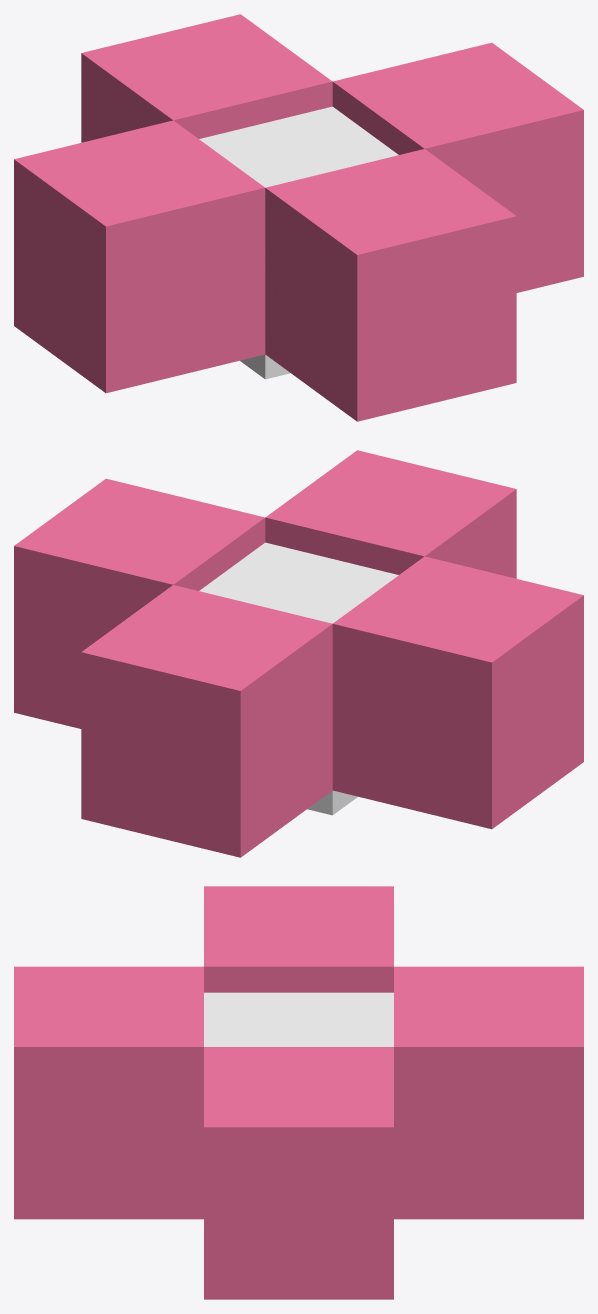
The model's file is sakura.gltf.
3 views of the same model, one above another, from view 1: azimuth 30°, elevation 25°; view 2: azimuth 150°, elevation 25°; view 3: azimuth 270°, elevation 25° (orthographic). The views are drawn at different scales.
Visible parts, largest first — view 1: flower-Local, in-Local; view 2: flower-Local, in-Local; view 3: flower-Local, in-Local.
Part boxes in pixels (box(x1,y1,x2,y2)): flower-Local: box(14, 14, 583, 421); in-Local: box(199, 106, 398, 379); flower-Local: box(14, 450, 583, 857); in-Local: box(199, 542, 398, 815); flower-Local: box(14, 886, 583, 1299); in-Local: box(204, 992, 393, 1046).
Size of the model in its own units: 3 by 1.15 by 3.
Materials: 2 (2 with a texture image).
